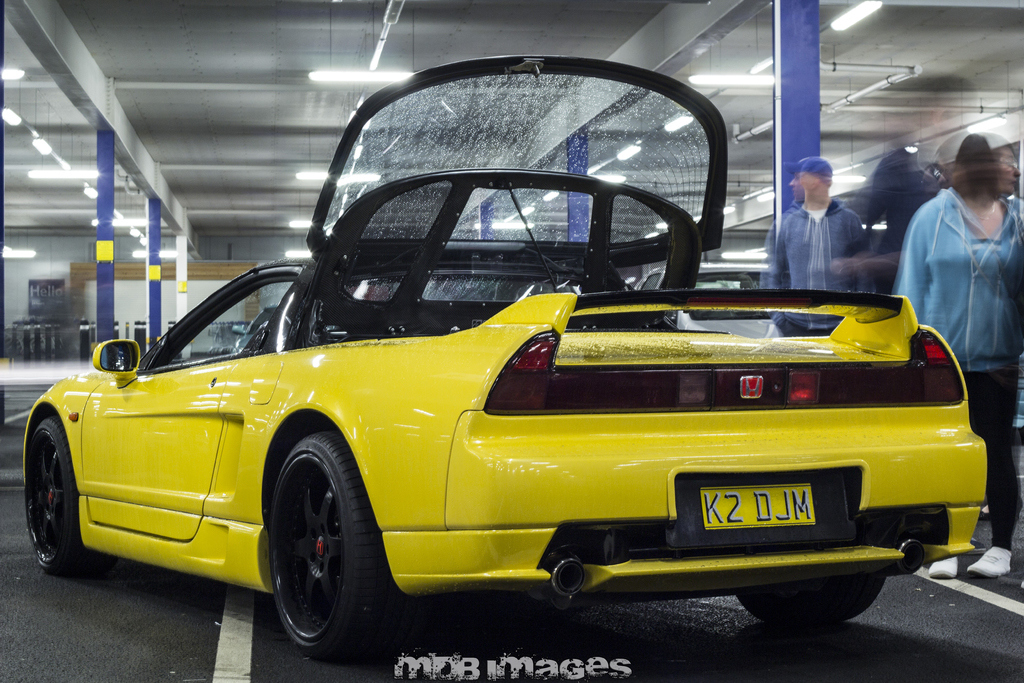Car: (22, 54, 987, 661)
